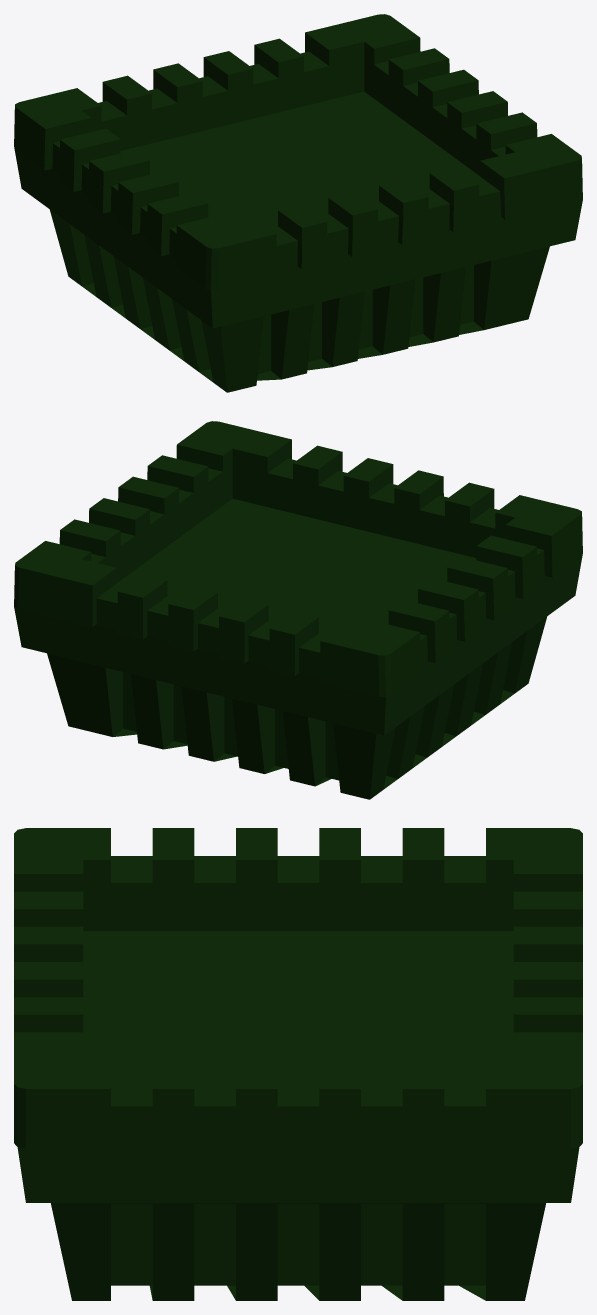
File: square-top-6.fbx
3 views of the same model, one above another, from view 1: azimuth 30°, elevation 25°; view 2: azimuth 150°, elevation 25°; view 3: azimuth 270°, elevation 25° (orthographic). The views are drawn at different scales.
Parts seen in each view (by area): view 1: square-top-6; view 2: square-top-6; view 3: square-top-6.
Part boxes in pixels (x1,y1,x2,y2): square-top-6: (14,14,582,392); square-top-6: (14,421,582,799); square-top-6: (14,828,582,1300).
Bounding box in the file's own units: 6.31 × 2.67 × 5.79.
